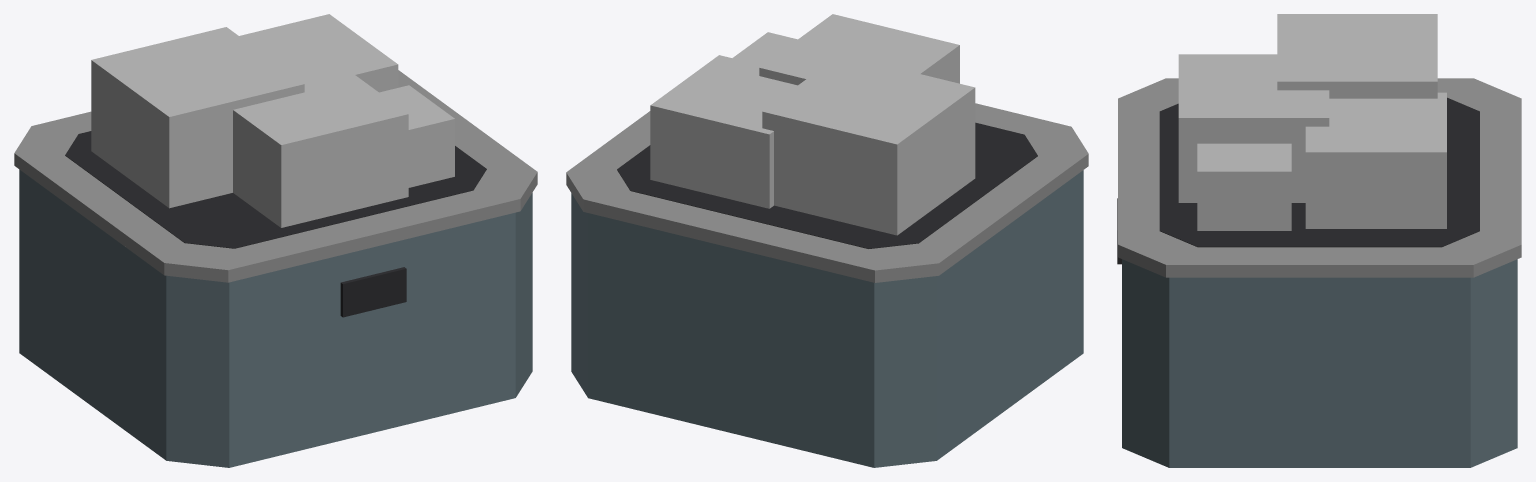
File: vge_spacer_box_gravlite.obj
The picture shows the model from 3 angles, left to right: view 1: azimuth 30°, elevation 25°; view 2: azimuth 150°, elevation 25°; view 3: azimuth 270°, elevation 25°; orthographic projection. The views are drawn at different scales.
Visible parts, largest first — view 1: vge_spacer_box_gravlite_0, vge_spacer_box_gravlite_4, vge_spacer_box_gravlite_1, vge_spacer_box_gravlite_6, vge_spacer_box_gravlite_2, vge_spacer_box_gravlite_5, vge_spacer_box_gravlite_7, vge_spacer_box_gravlite_3; view 2: vge_spacer_box_gravlite_0, vge_spacer_box_gravlite_4, vge_spacer_box_gravlite_1, vge_spacer_box_gravlite_5, vge_spacer_box_gravlite_2, vge_spacer_box_gravlite_6, vge_spacer_box_gravlite_7; view 3: vge_spacer_box_gravlite_0, vge_spacer_box_gravlite_1, vge_spacer_box_gravlite_5, vge_spacer_box_gravlite_6, vge_spacer_box_gravlite_4, vge_spacer_box_gravlite_2, vge_spacer_box_gravlite_7.
Part boxes in pixels (box(x1,y1,x2,y2)): vge_spacer_box_gravlite_0: box(19, 169, 532, 467); vge_spacer_box_gravlite_4: box(91, 27, 304, 208); vge_spacer_box_gravlite_1: box(14, 70, 537, 282); vge_spacer_box_gravlite_6: box(233, 60, 408, 227); vge_spacer_box_gravlite_2: box(65, 131, 486, 248); vge_spacer_box_gravlite_5: box(239, 14, 398, 92); vge_spacer_box_gravlite_7: box(379, 85, 454, 187); vge_spacer_box_gravlite_3: box(340, 267, 406, 317); vge_spacer_box_gravlite_0: box(571, 170, 1083, 467); vge_spacer_box_gravlite_4: box(762, 54, 975, 235); vge_spacer_box_gravlite_1: box(566, 103, 1088, 282); vge_spacer_box_gravlite_5: box(650, 55, 797, 208); vge_spacer_box_gravlite_2: box(617, 122, 1037, 248); vge_spacer_box_gravlite_6: box(759, 14, 959, 85); vge_spacer_box_gravlite_7: box(732, 32, 797, 65); vge_spacer_box_gravlite_0: box(1122, 259, 1517, 467); vge_spacer_box_gravlite_1: box(1118, 78, 1521, 277); vge_spacer_box_gravlite_5: box(1305, 92, 1446, 228); vge_spacer_box_gravlite_6: box(1178, 54, 1329, 202); vge_spacer_box_gravlite_4: box(1277, 14, 1437, 98); vge_spacer_box_gravlite_2: box(1159, 97, 1479, 247); vge_spacer_box_gravlite_7: box(1197, 143, 1291, 230).
Bounding box in the file's own units: 0.9384 × 0.7 × 0.8584.
